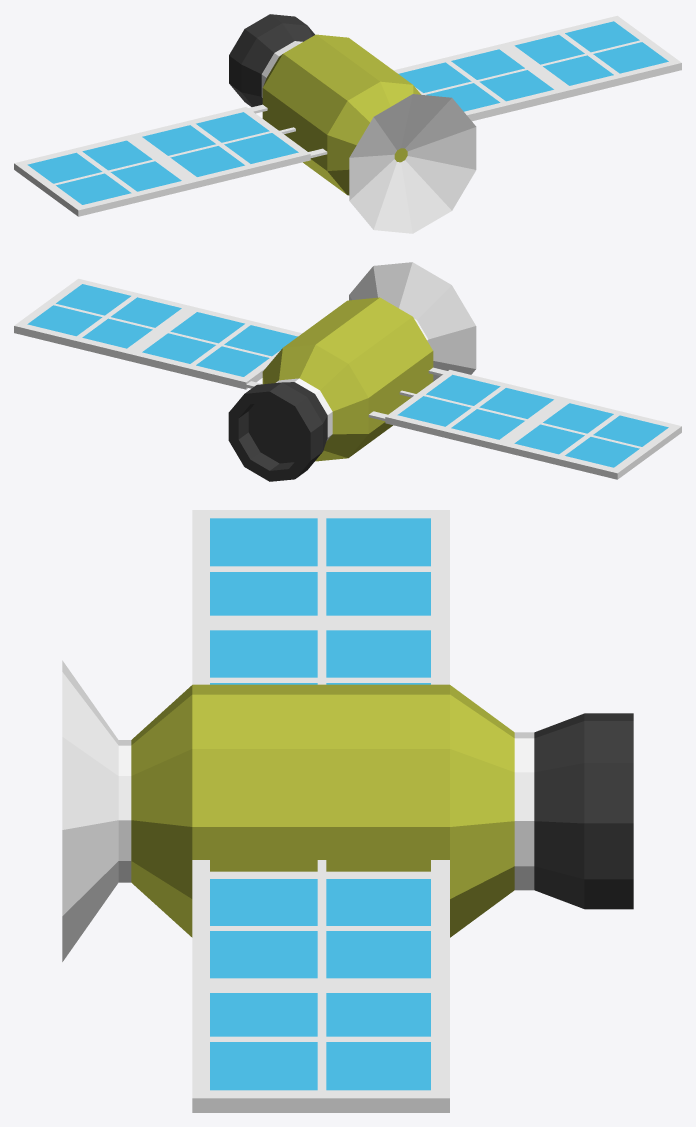
Rendered from satellite.glb.
3 views of the same model, one above another, from view 1: azimuth 30°, elevation 25°; view 2: azimuth 150°, elevation 25°; view 3: azimuth 270°, elevation 25° (orthographic). The views are drawn at different scales.
Visible parts, largest first — view 1: Cylinder; view 2: Cylinder; view 3: Cylinder.
Boxes of the visible parts, x1=… form: Cylinder: x1=14, y1=14, x2=681, y2=233; Cylinder: x1=14, y1=262, x2=681, y2=481; Cylinder: x1=62, y1=510, x2=633, y2=1112.
Bounding box in the file's own units: 10.81 × 2.39 × 4.43.
1 material, 1 textured.
